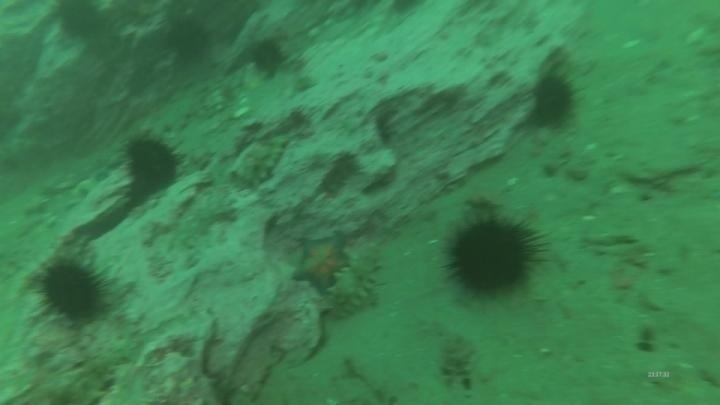echinus: (442, 211, 546, 300), (32, 254, 113, 328), (120, 130, 186, 197), (529, 70, 580, 130), (163, 16, 213, 66), (53, 1, 106, 43), (246, 36, 288, 78)
holothurian: (52, 330, 136, 405), (326, 238, 385, 318), (229, 134, 290, 191), (436, 331, 478, 395), (99, 361, 154, 405)
starfish: (289, 231, 353, 295)
